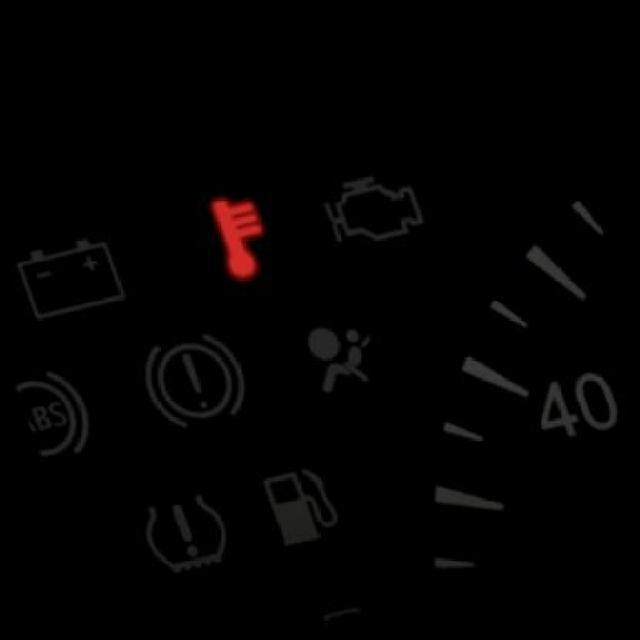High Engine Coolant Temperature: (197, 177, 280, 285)
